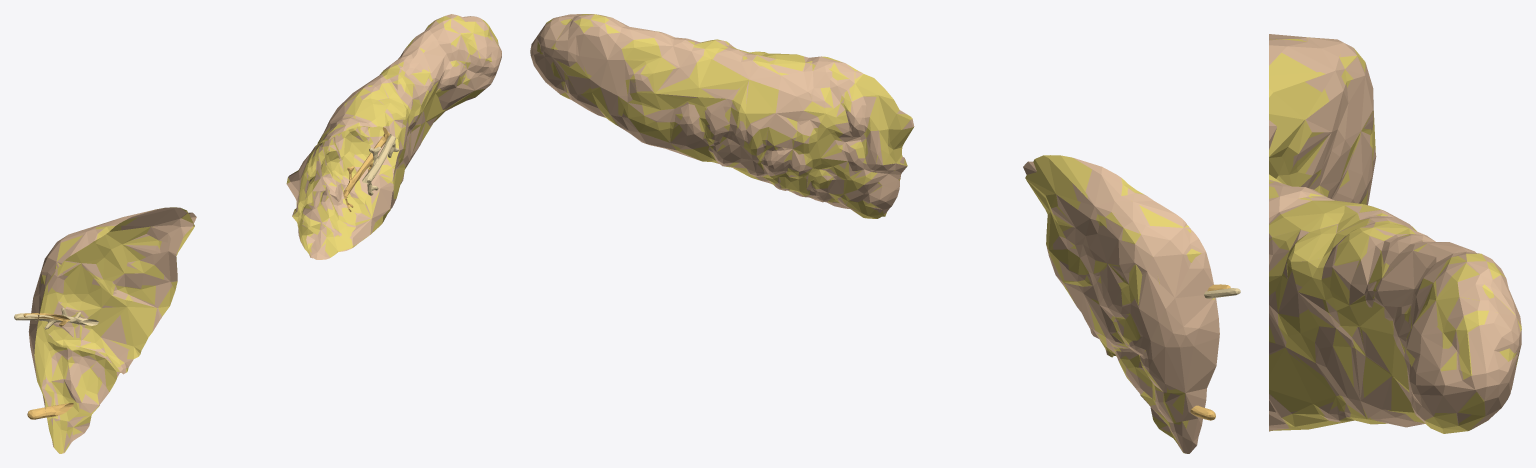
Rendered from pancreas_interno.glb.
3 renders of one model, left to right at view 1: azimuth 30°, elevation 25°; view 2: azimuth 150°, elevation 25°; view 3: azimuth 270°, elevation 25°, orthographic. The views are drawn at different scales.
Parts seen in each view (by area): view 1: parenchyma of pancreas, pancreas, pancreatic duct tree, pancreatic duct; view 2: pancreas, parenchyma of pancreas; view 3: pancreas, parenchyma of pancreas.
Part boxes in pixels (bbox=[...]): parenchyma of pancreas: bbox=[34, 15, 498, 453]; pancreas: bbox=[28, 14, 501, 453]; pancreatic duct tree: bbox=[14, 134, 398, 329]; pancreatic duct: bbox=[23, 127, 389, 419]; pancreas: bbox=[530, 14, 1219, 453]; parenchyma of pancreas: bbox=[537, 14, 1214, 453]; pancreas: bbox=[1269, 34, 1521, 431]; parenchyma of pancreas: bbox=[1269, 37, 1521, 433].
Size of the model in its own units: 124 by 64.98 by 25.48.
